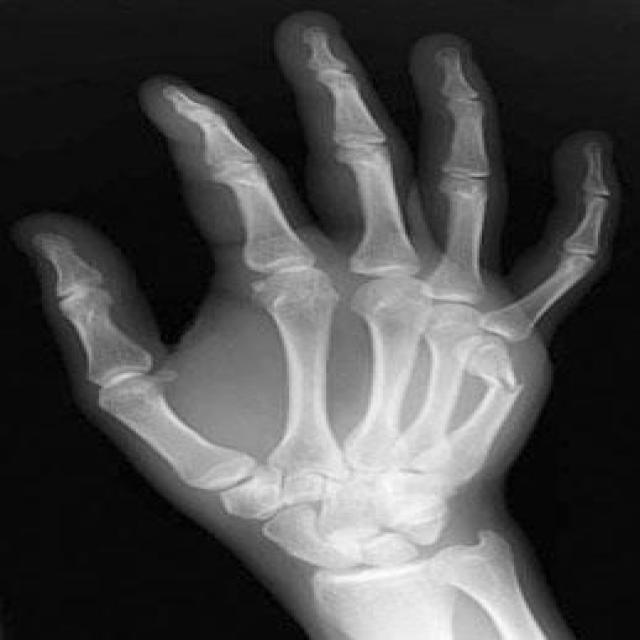fracture: (472, 363, 524, 402)
